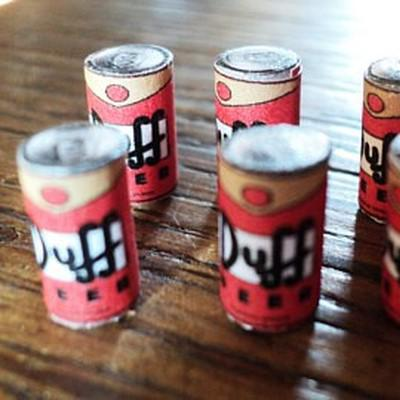beer: (16, 43, 400, 332)
